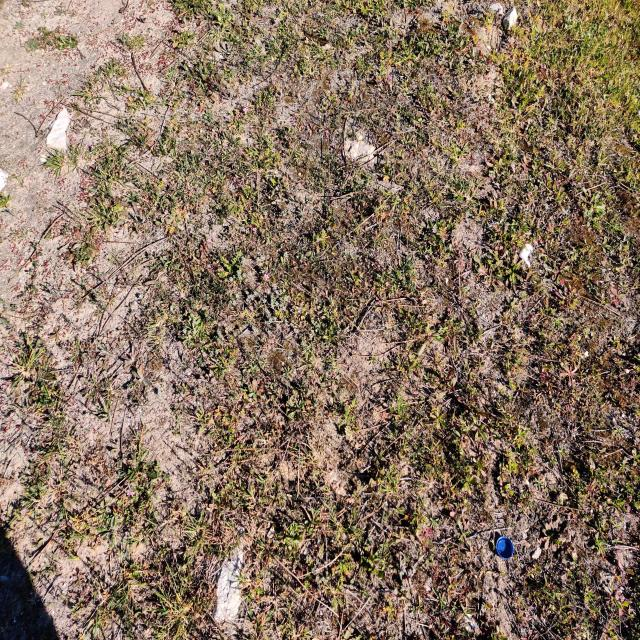litter: (494, 531, 519, 567)
